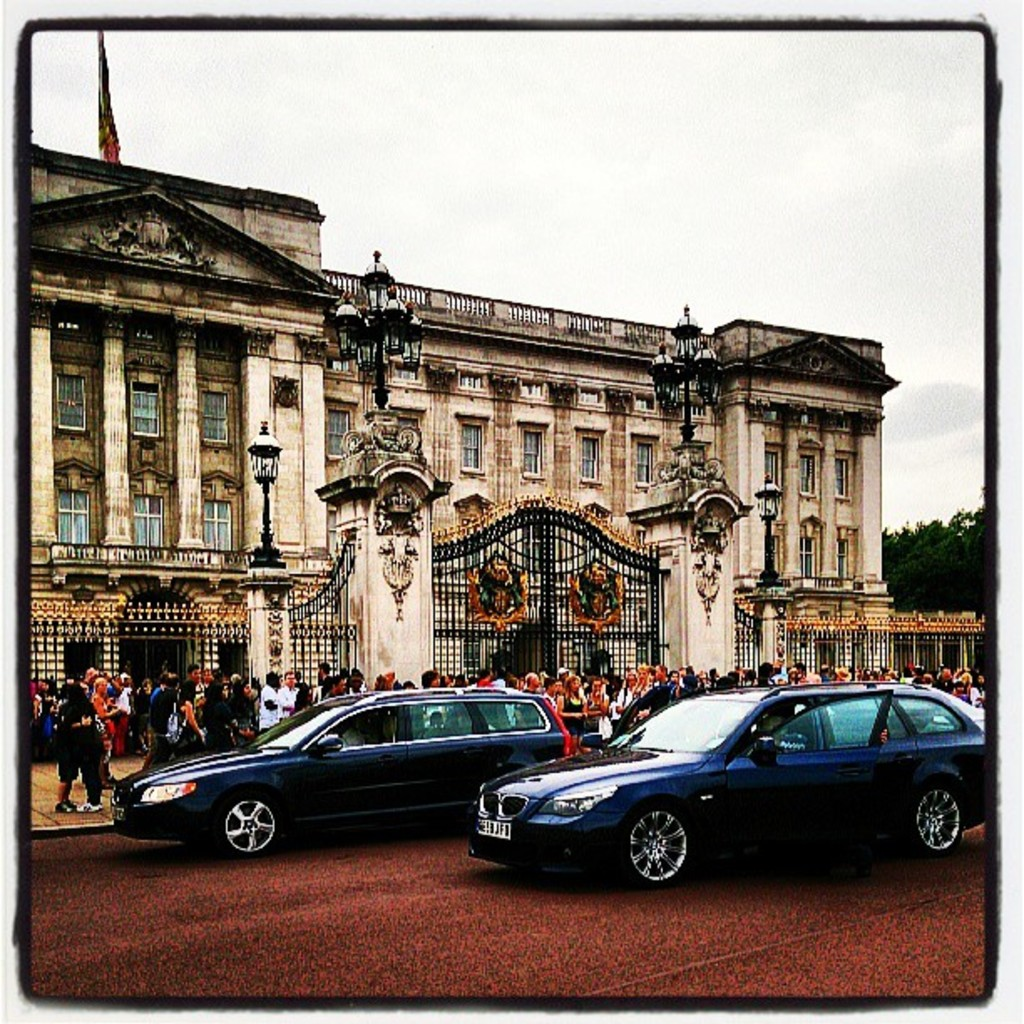Car: (478, 682, 990, 881), (110, 677, 577, 856)
